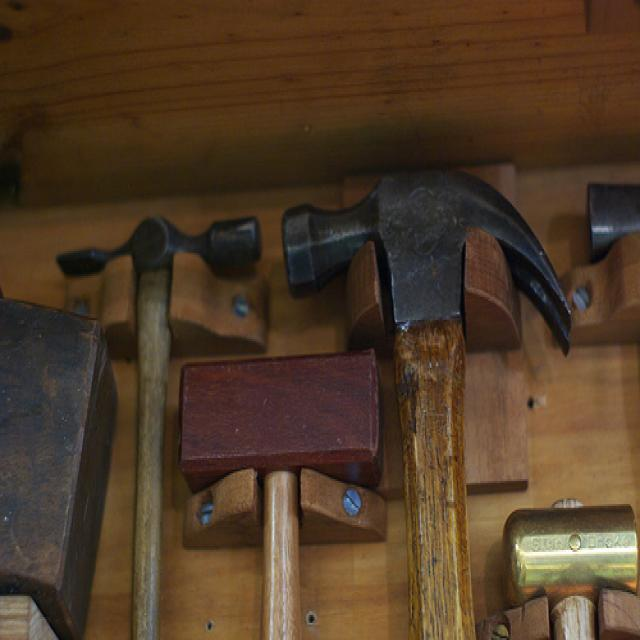hammer: (278, 146, 586, 640), (48, 197, 272, 640), (167, 343, 388, 640)
